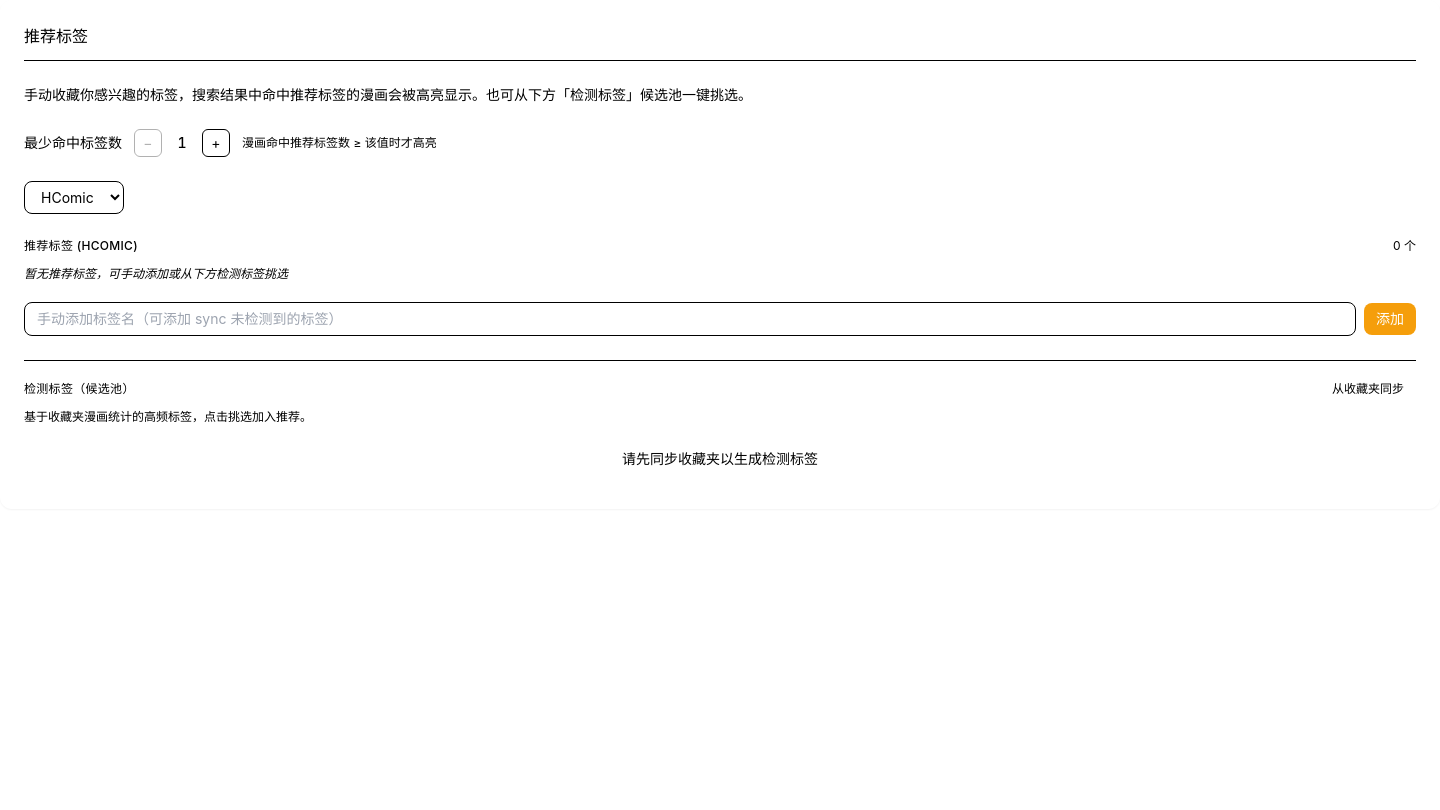
Test case: FavouriteTagSettings - 推荐标签 / 检测标签双区 › 连续两次操作 Toast：第二条不被第一条计时器提前关闭
第一条 toast 触发，其 2500ms 计时器开始计时
Type "标签A" into the field with placeholder "手动添加标签名（可添加 sync 未检测到的标签）" at coordinates (690, 319), box [24,302,1356,336]
Then press Enter
Wait 2400 ms
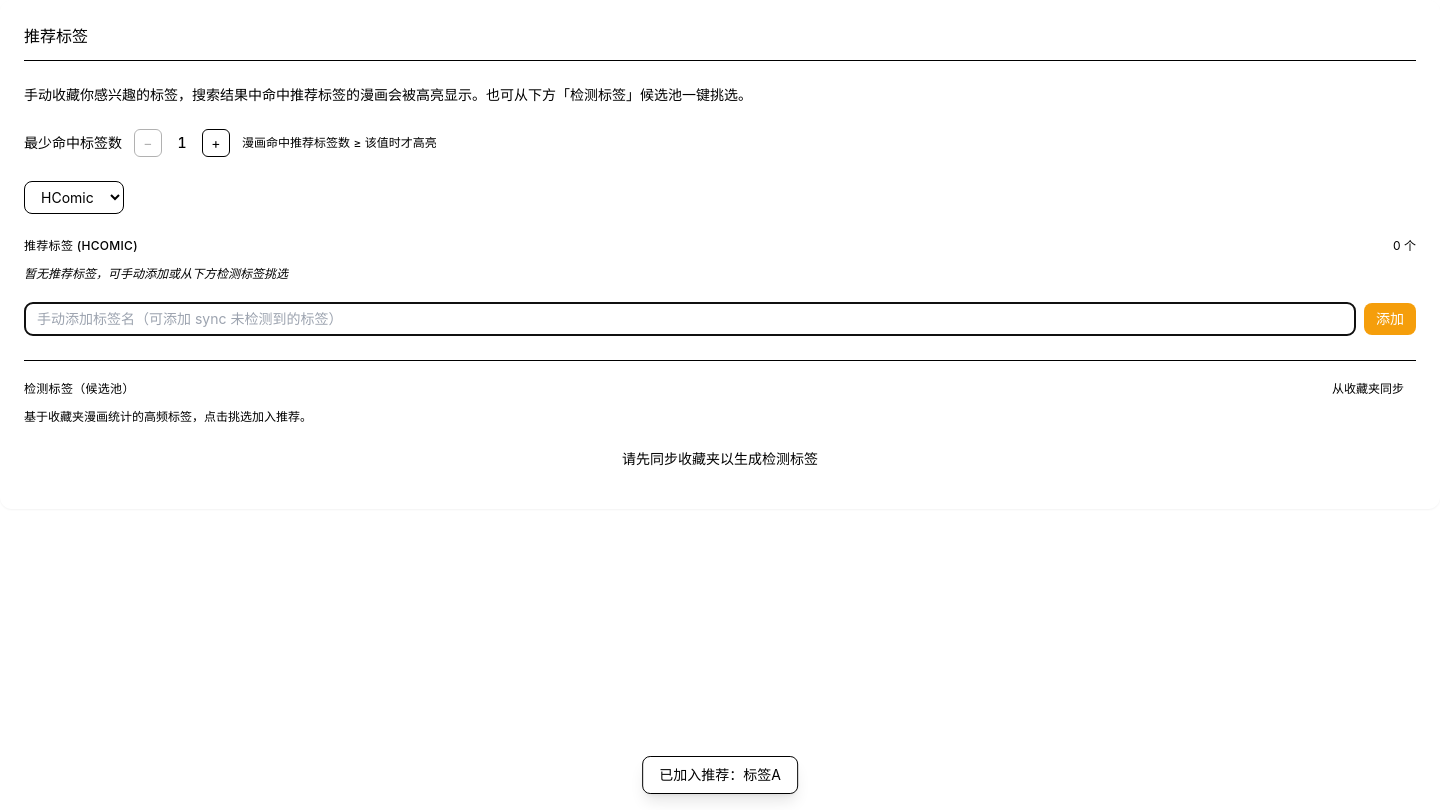
Expected: the text "已加入推荐：标签A" is shown, [642,756,798,794]
Type "标签B" into the field with placeholder "手动添加标签名（可添加 sync 未检测到的标签）" at coordinates (690, 319), box [24,302,1356,336]
Then press Enter
Wait 200 ms
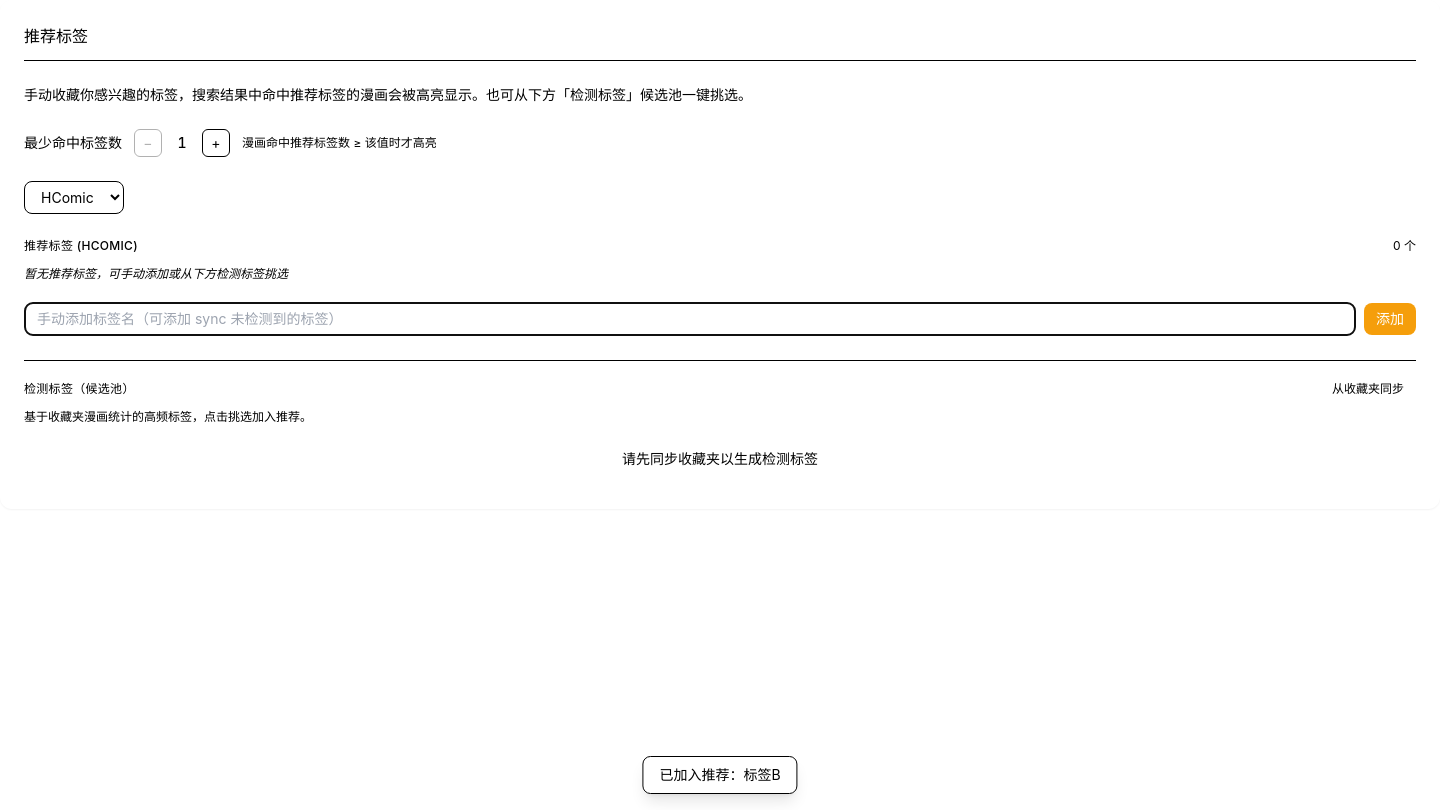
Expected: the text "已加入推荐：标签B" is shown, [642,756,798,794]
